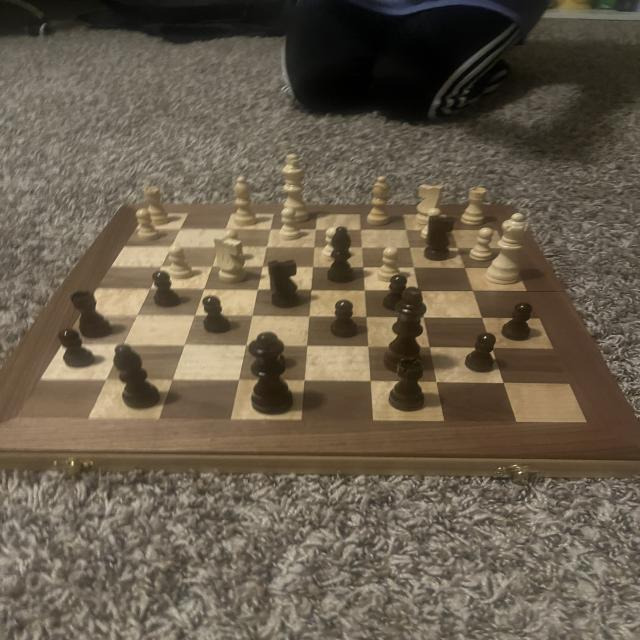bishop: (114, 343, 164, 411), (324, 222, 358, 284)
black-bishop: (380, 284, 429, 378)
black-king: (267, 258, 305, 310), (420, 214, 458, 262)
black-knight: (462, 330, 500, 374), (57, 328, 96, 368), (328, 298, 362, 340), (499, 303, 535, 342), (200, 294, 233, 336), (150, 270, 179, 311), (382, 273, 410, 310)
black-pawn: (247, 331, 298, 416)
black-queen: (386, 356, 430, 412), (70, 290, 114, 339)
black-rook: (361, 174, 397, 226), (228, 174, 262, 228)
white-bishop: (277, 152, 314, 225)
white-king: (210, 232, 250, 286), (412, 184, 446, 226)
white-knight: (373, 244, 404, 282), (166, 242, 196, 281), (132, 205, 162, 243), (468, 225, 495, 263), (219, 228, 249, 262), (419, 207, 445, 239), (278, 206, 302, 240), (320, 224, 345, 256)
white-pawn: (483, 210, 532, 285)
white-queen: (142, 185, 174, 225), (460, 186, 490, 227)
